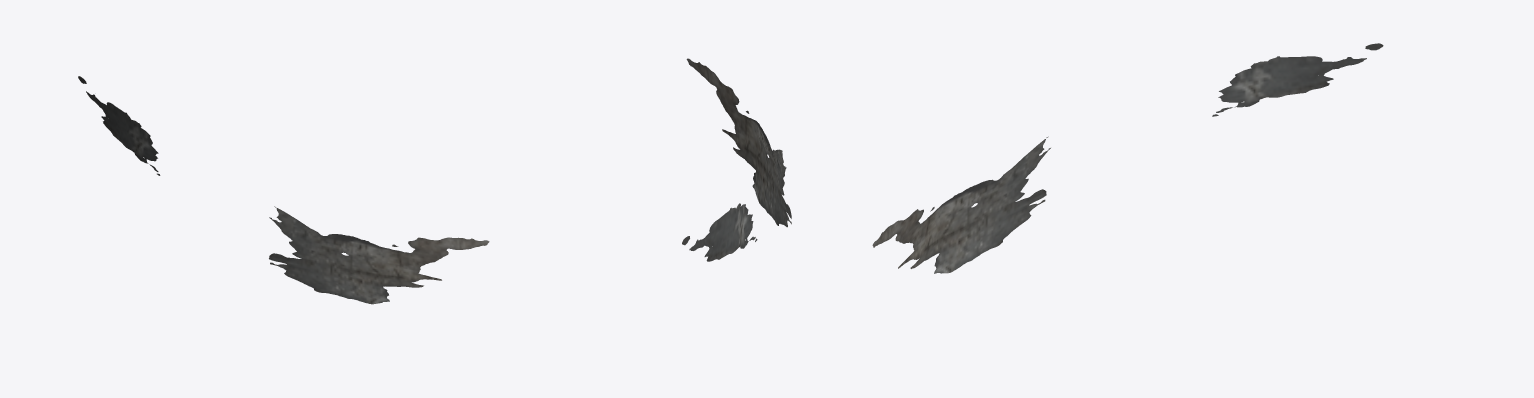
File: WenNiDeChe_01_GuaCeng_01.FBX
3 renders of one model, left to right at view 1: azimuth 30°, elevation 25°; view 2: azimuth 150°, elevation 25°; view 3: azimuth 270°, elevation 25°, orthographic. The views are drawn at different scales.
Parts seen in each view (by area): view 1: Object001; view 2: Object001; view 3: Object001.
Part boxes in pixels (box(x1,y1,x2,y2)): Object001: box(78, 76, 489, 304); Object001: box(682, 58, 791, 261); Object001: box(872, 43, 1383, 273).
Size of the model in its own units: 194 by 153 by 335.
